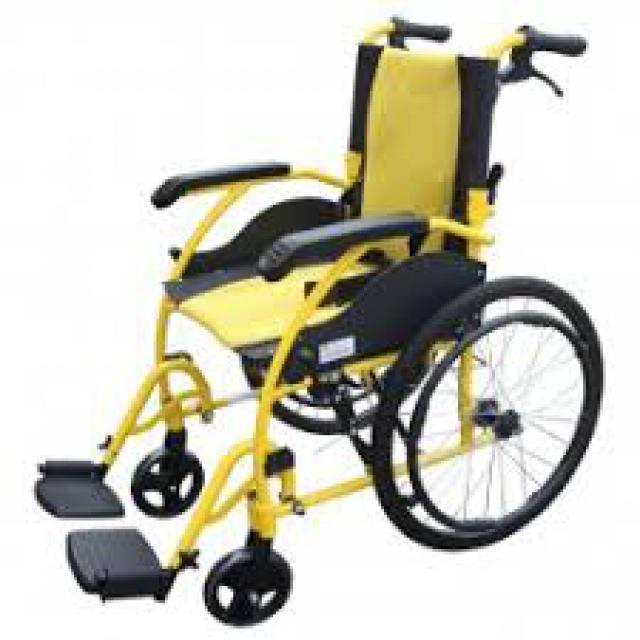wheelchair: (22, 2, 600, 618)
